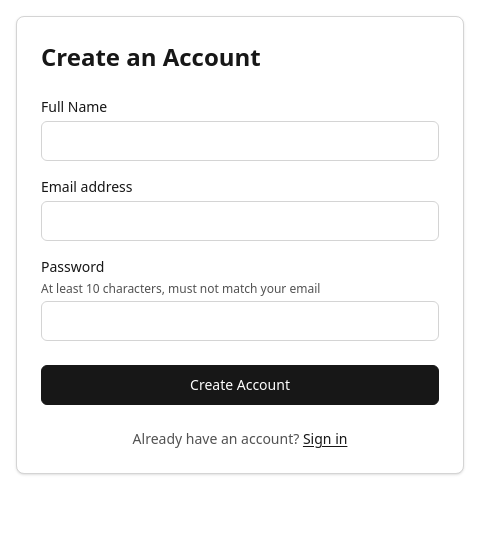
Test: Authentication & RBAC Views (D2) › Register validation checks name, email, password length, and password matching email
The width and height of the screenshot is (481, 552).
// Empty validation
Click the button "Create Account" at (240,385), box [41,365,439,405]
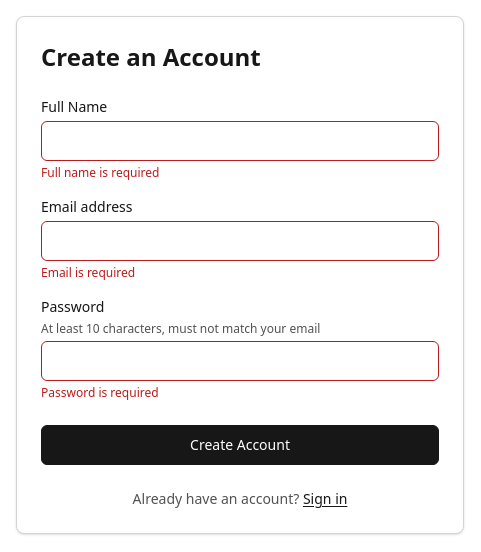
Result: the text "Full name is required" is shown at [41,164,159,181]
Result: the text "Email is required" is shown at [41,264,135,281]
Result: the text "Password is required" is shown at [41,384,159,401]
// Password matches email
Type "Amit Patel" into the field labelled "Full Name" at (240,141), box [41,121,439,161]
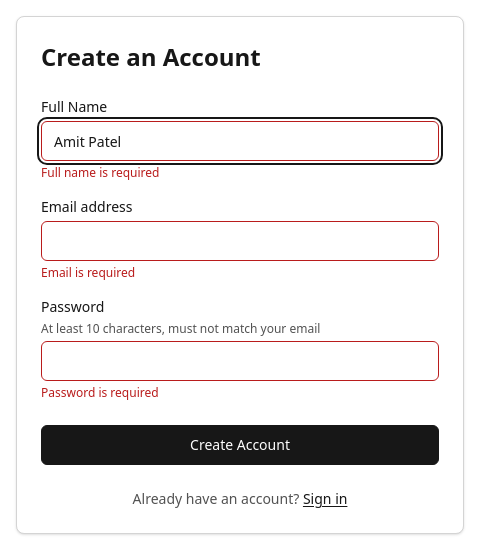
Type "amit.patel@civic.test" into the field labelled "Email address" at (240,241), box [41,221,439,261]
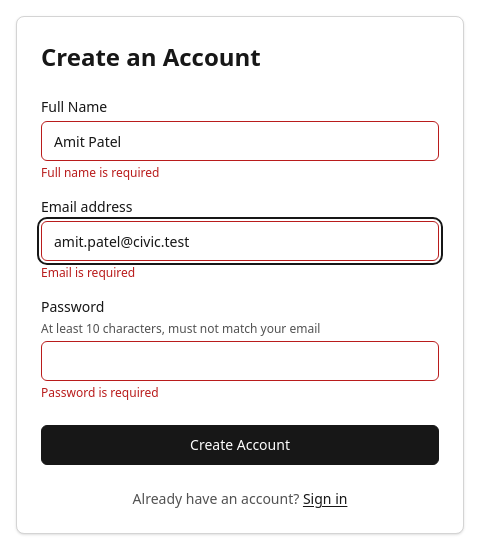
Type "amit.patel@civic.test" into the password field labelled "Password" at (240,361), box [41,341,439,381]
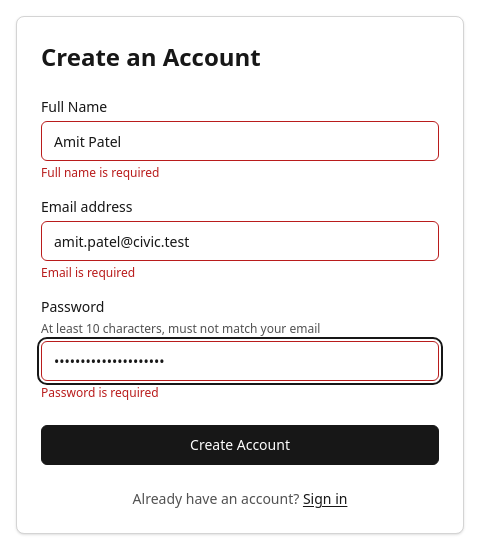
Click the button "Create Account" at (240,445), box [41,425,439,465]
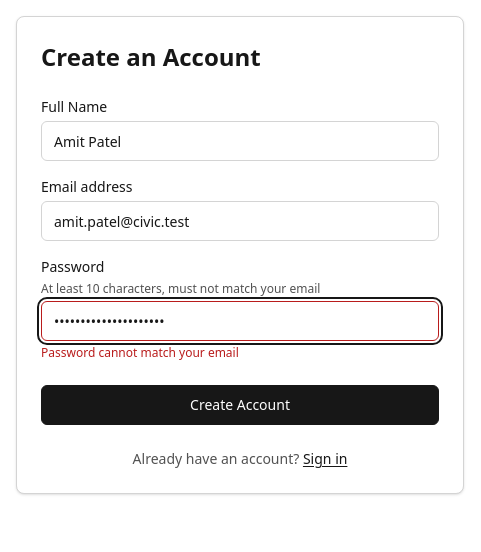
Result: the text "Password cannot match your email" is shown at [41,344,239,361]
